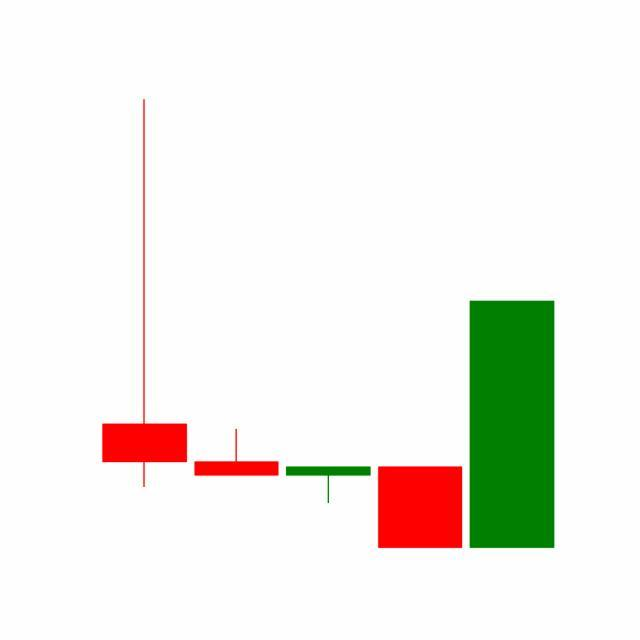Marubozu: (374, 467, 468, 550)
